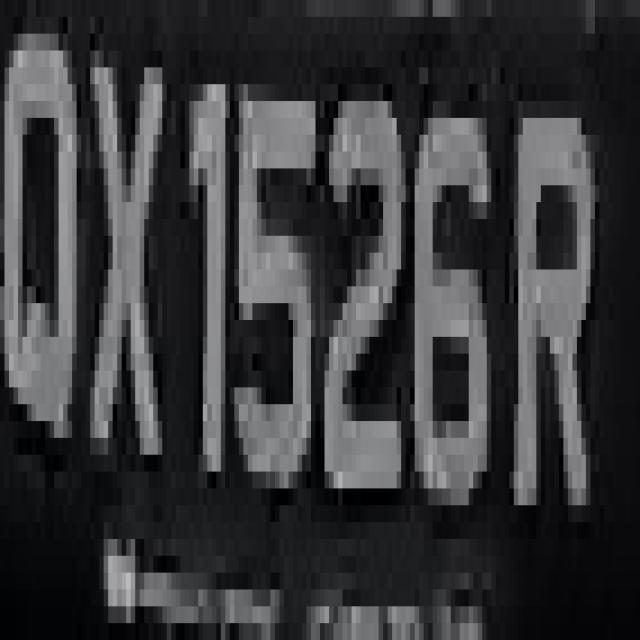1: (198, 17, 239, 539)
2: (316, 50, 401, 556)
5: (230, 0, 324, 539)
6: (410, 67, 500, 556)
Q: (0, 0, 86, 522)
R: (505, 50, 595, 572)
X: (90, 17, 167, 539)
